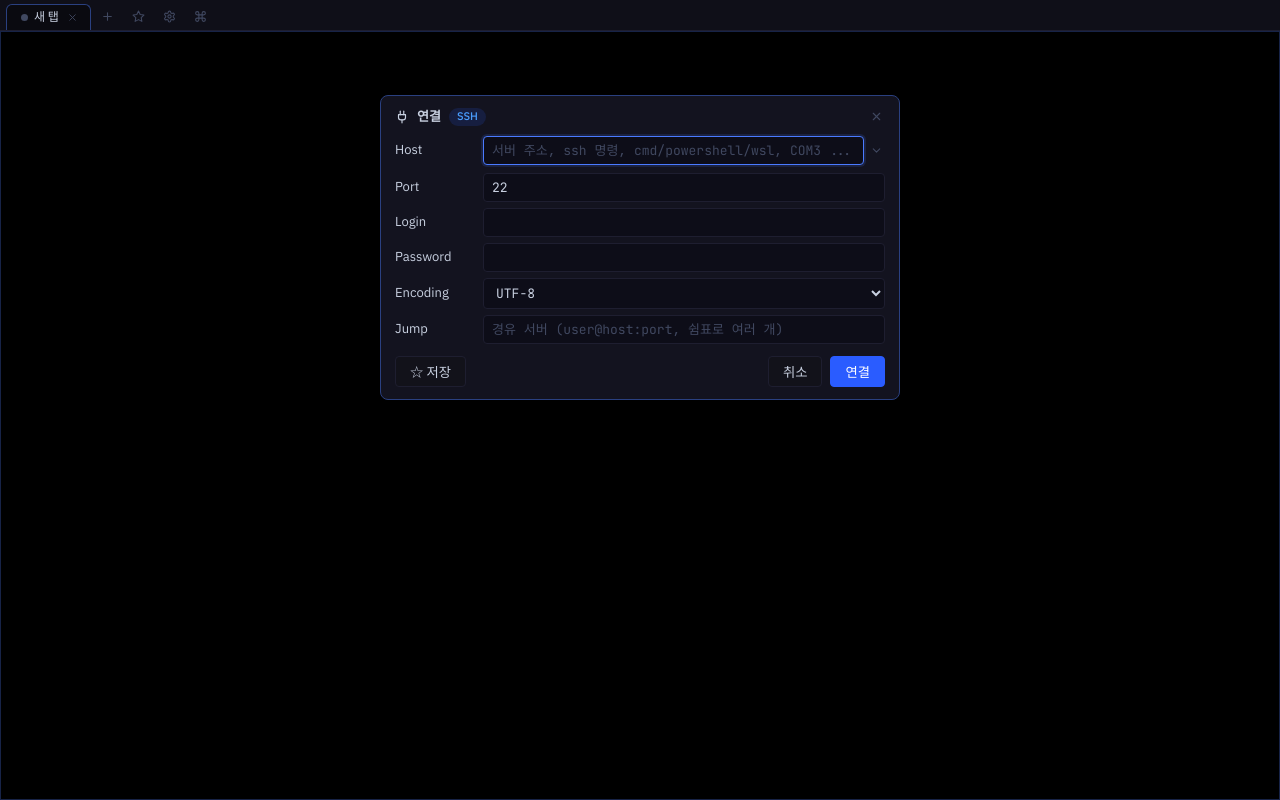
Test case: 메모장 (MM) › MM-04: Esc / ✕로 닫힘
Type "srv" into the field labelled "Host" at {"x": 674, "y": 150}, box [483, 136, 864, 165]
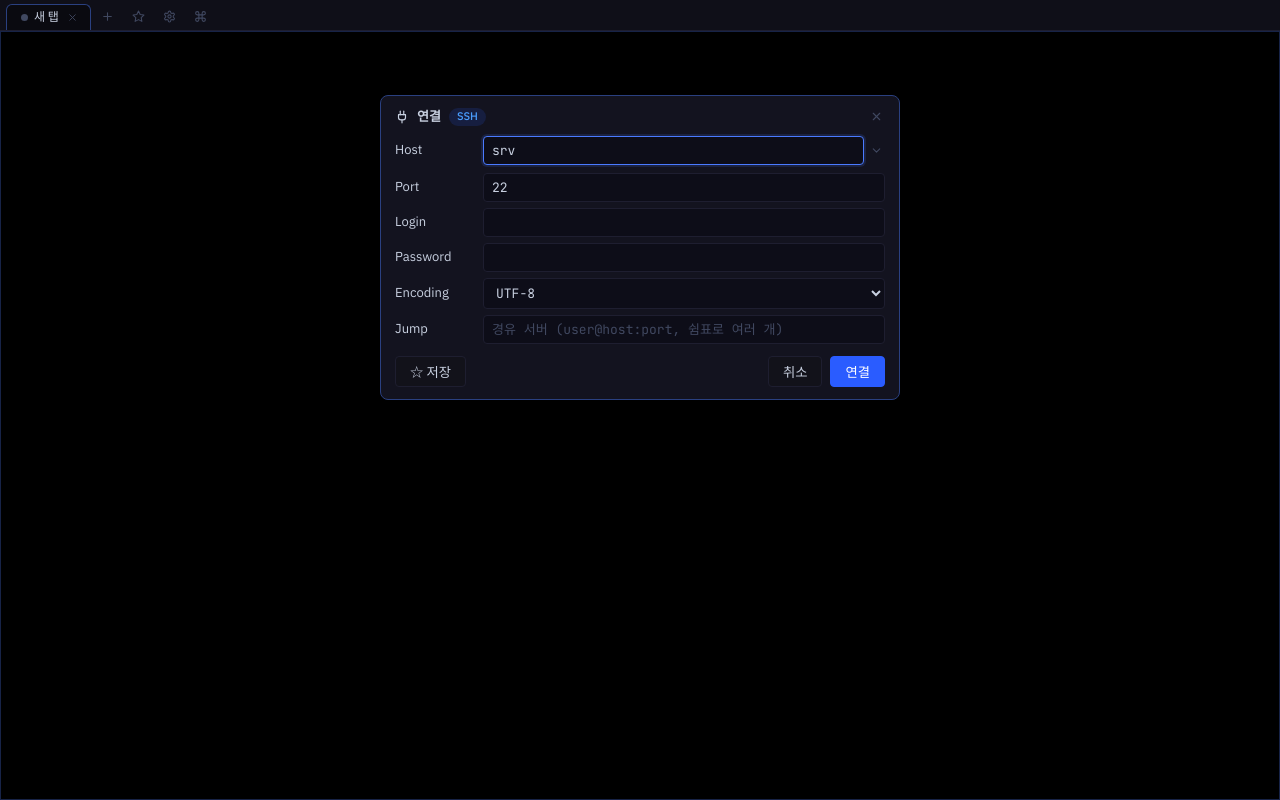
Submit the form labelled "Host", box [380, 95, 900, 400]
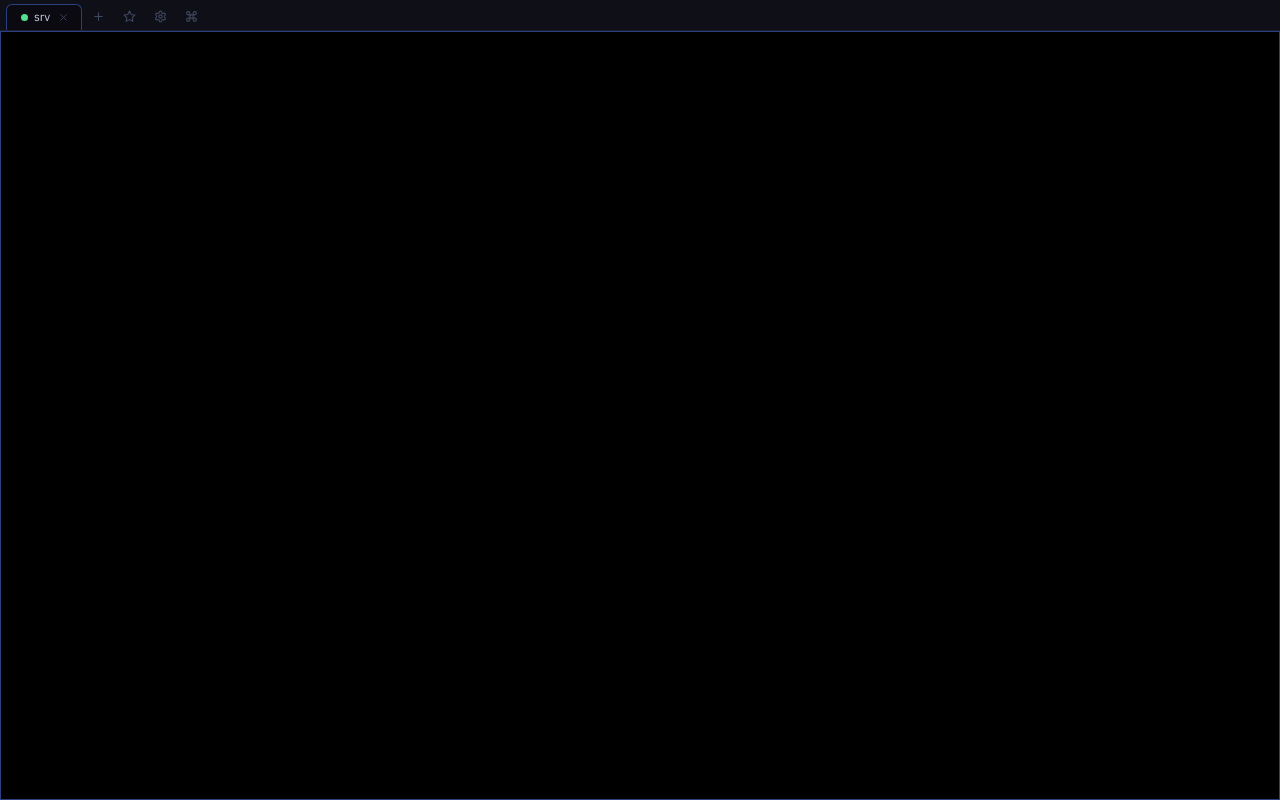
Now the label labelled "Host" is gone
Press B in the element showing "srv"
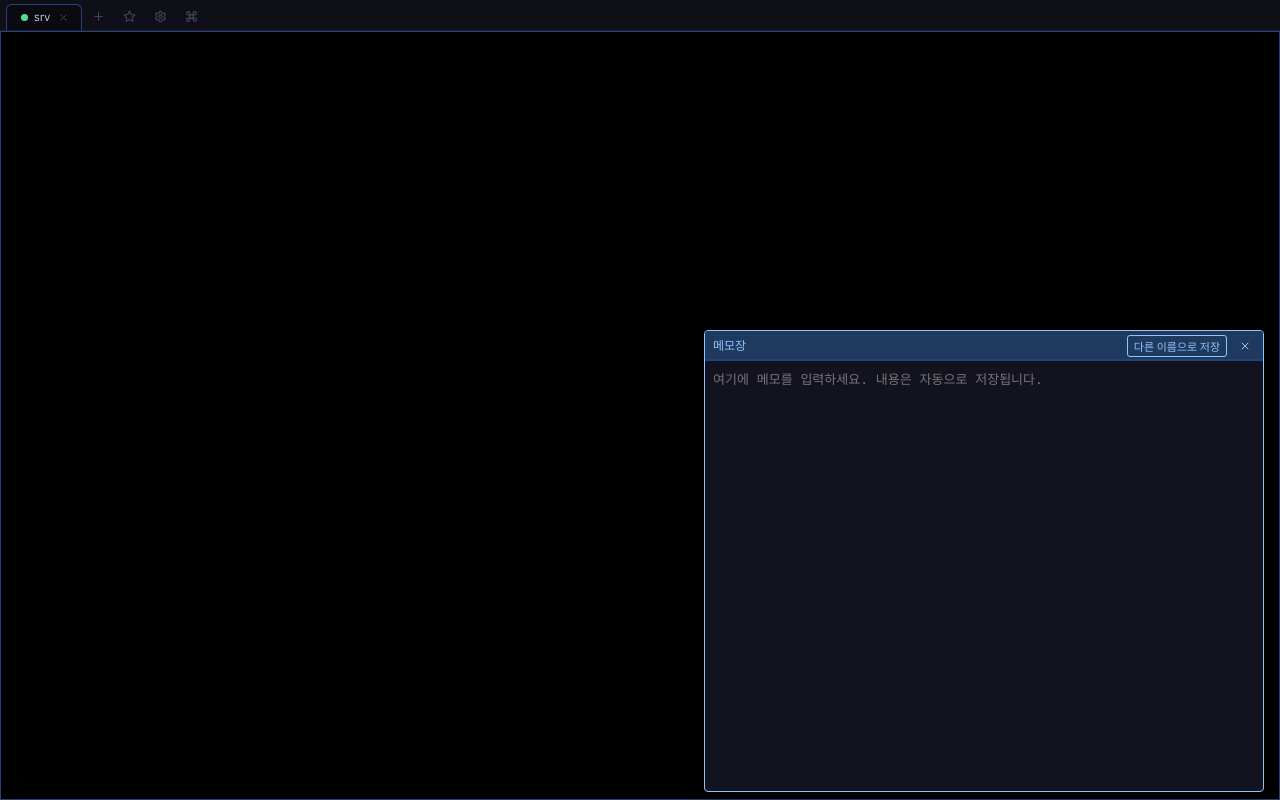
Press Escape in the text box, box [705, 362, 1263, 791]
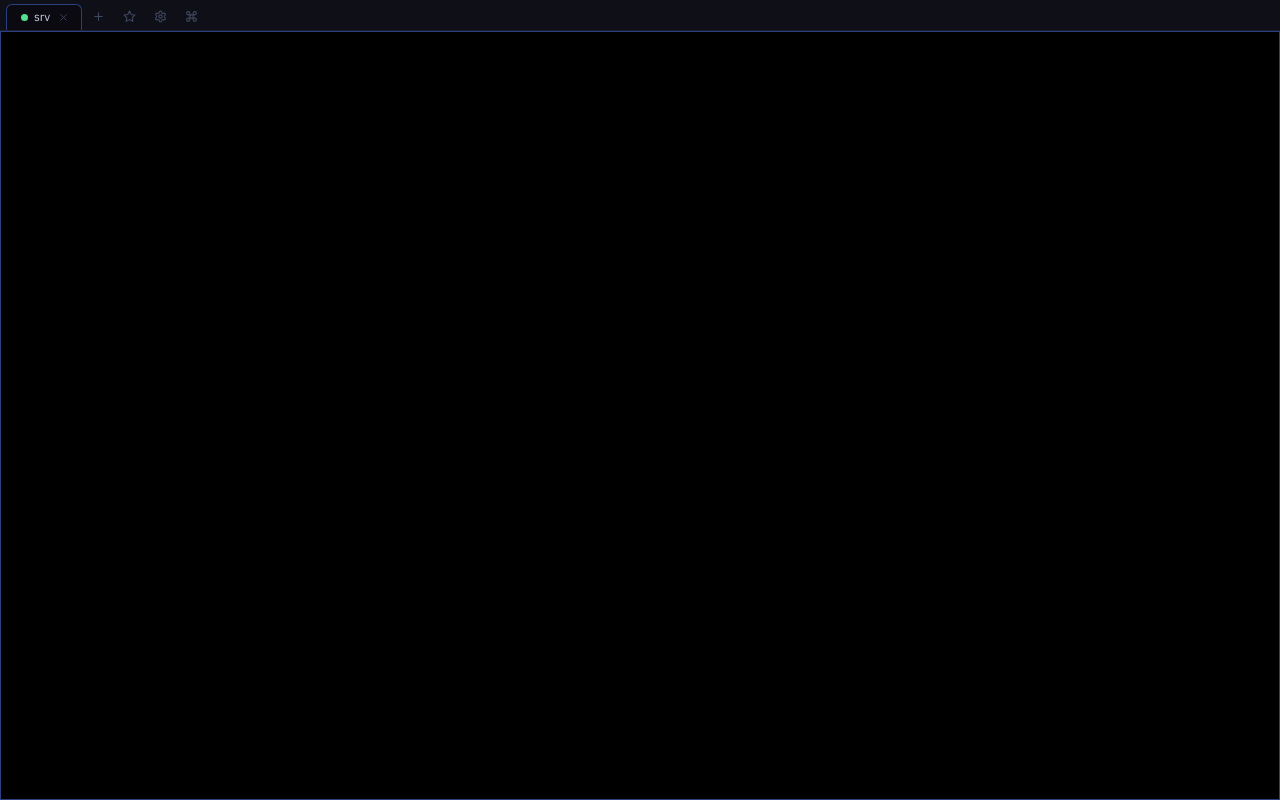
Now no elements "메모장" are shown
Press B in the element showing "srv"
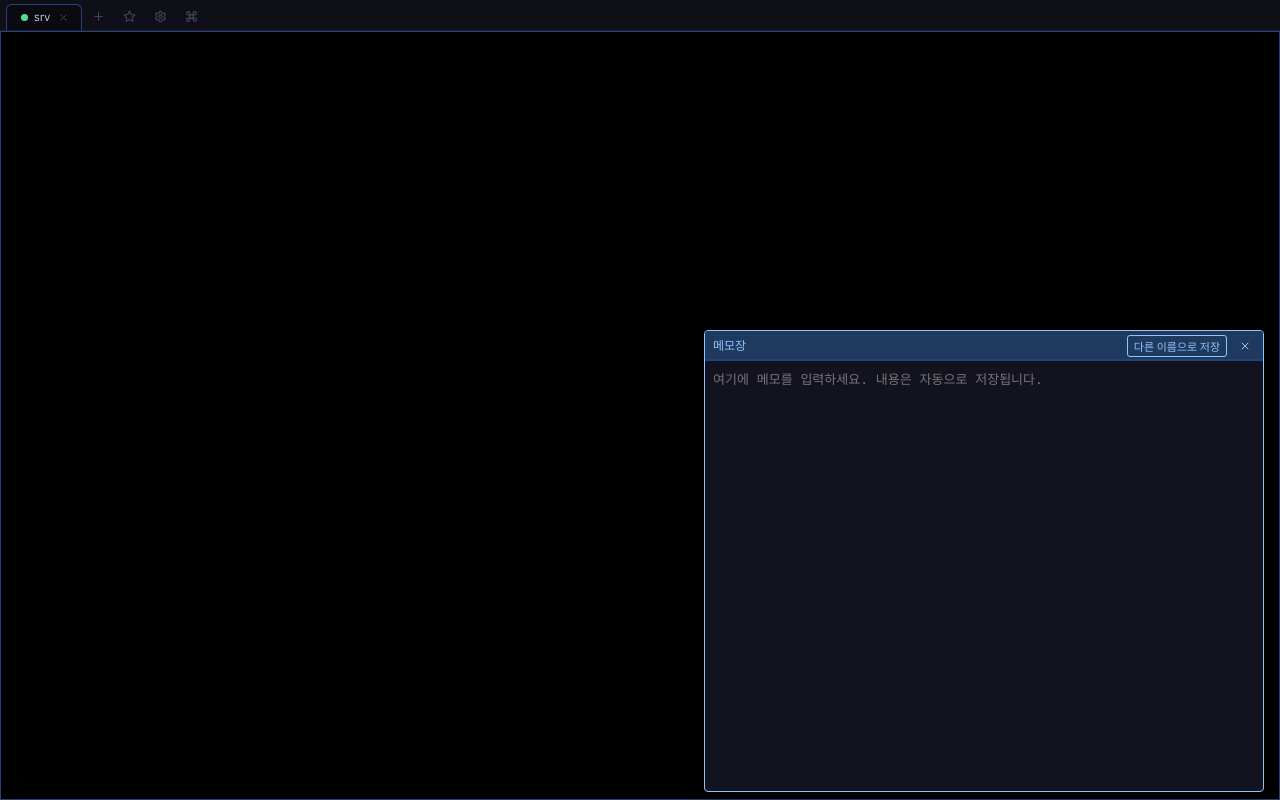
Click the button titled "닫기 (Esc)" at {"x": 1245, "y": 346}, box [1233, 338, 1257, 354]
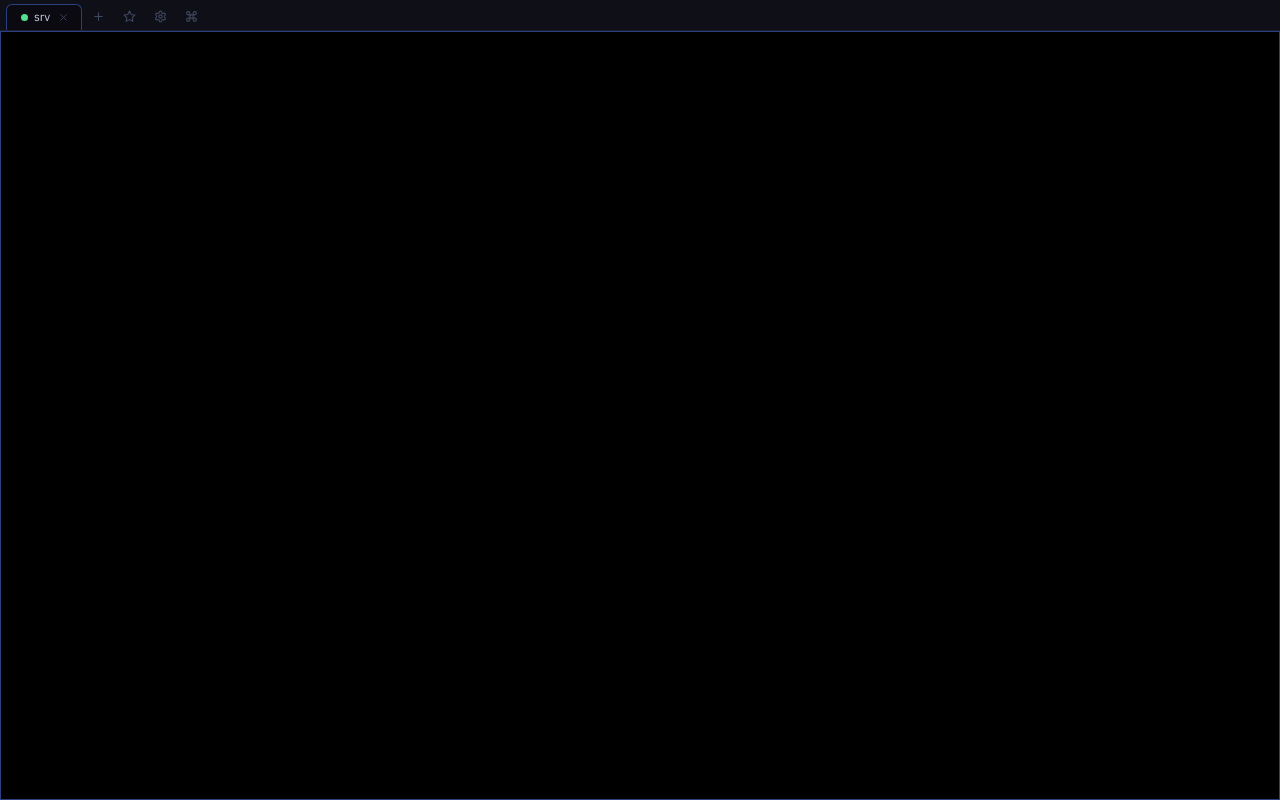
Now no elements "메모장" are shown
